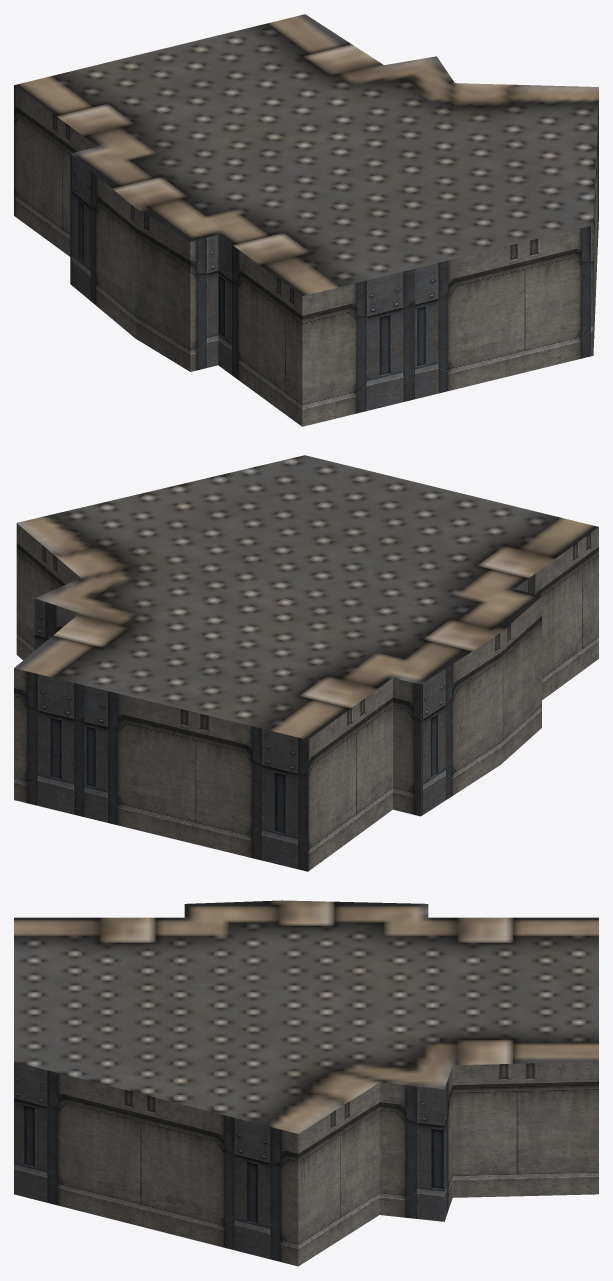
File: building_heavy_a_13.glb
The picture shows the model from 3 angles, top to bottom: view 1: azimuth 30°, elevation 25°; view 2: azimuth 150°, elevation 25°; view 3: azimuth 270°, elevation 25°; orthographic projection.
Visible parts, largest first — view 1: buildings/saxarba/building_heavy/building_heavy_a_13; view 2: buildings/saxarba/building_heavy/building_heavy_a_13; view 3: buildings/saxarba/building_heavy/building_heavy_a_13.
Boxes of the visible parts, x1,y1,x2,y2 form: buildings/saxarba/building_heavy/building_heavy_a_13: (14,14,598,426); buildings/saxarba/building_heavy/building_heavy_a_13: (14,455,598,871); buildings/saxarba/building_heavy/building_heavy_a_13: (14,900,598,1266).
Bounding box in the file's own units: 68 × 18 × 72.
